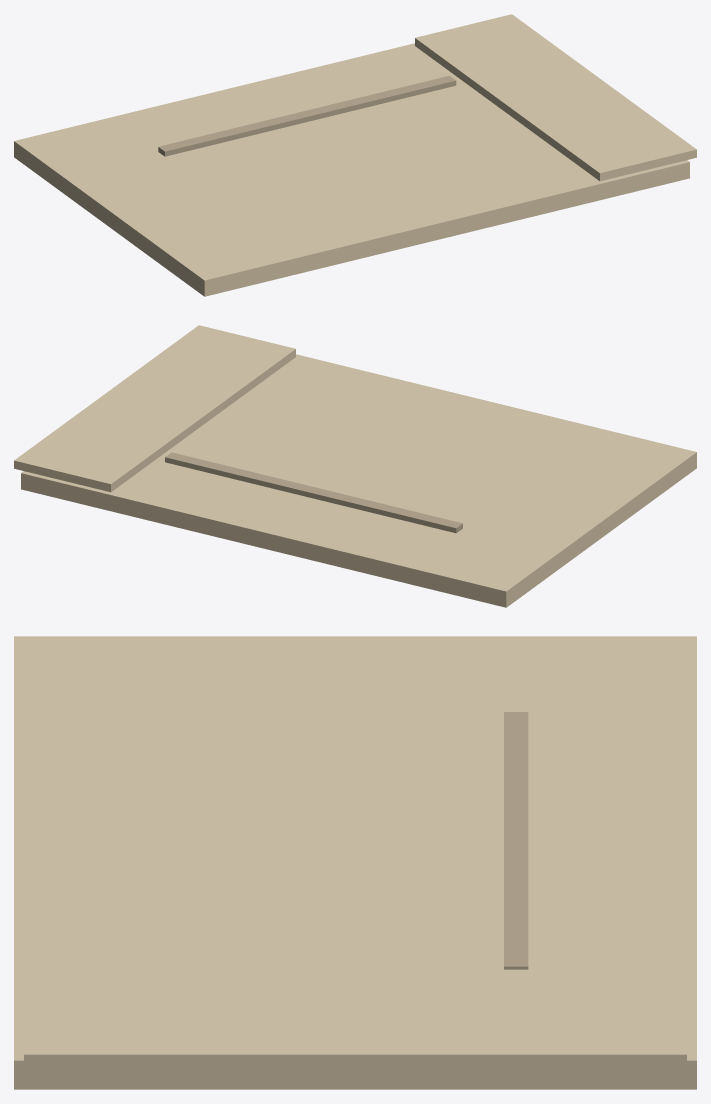
File: prop-flour-sack-empty-mm2.fbx
The picture shows the model from 3 angles, top to bottom: view 1: azimuth 30°, elevation 25°; view 2: azimuth 150°, elevation 25°; view 3: azimuth 270°, elevation 25°; orthographic projection. The views are drawn at different scales.
Parts seen in each view (by area): view 1: prop-flour-sack-empty-mm2; view 2: prop-flour-sack-empty-mm2; view 3: prop-flour-sack-empty-mm2.
Boxes of the visible parts, left/top/right/bottom form: prop-flour-sack-empty-mm2: left=14, top=14, right=696, bottom=296; prop-flour-sack-empty-mm2: left=14, top=325, right=696, bottom=607; prop-flour-sack-empty-mm2: left=14, top=636, right=696, bottom=1089.
Bounding box in the file's own units: 51 × 2.4 × 34.
